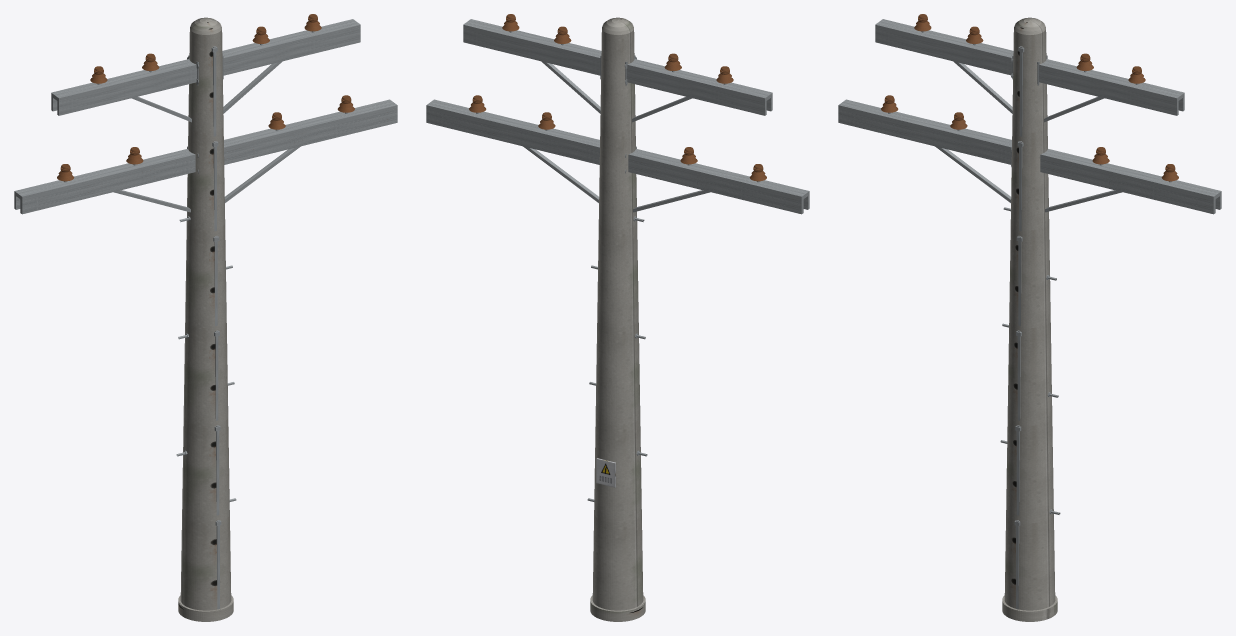
The model's file is utility_pole.obj.
3 views of the same model, side by side, from view 1: azimuth 30°, elevation 25°; view 2: azimuth 150°, elevation 25°; view 3: azimuth 330°, elevation 25° (orthographic).
Parts seen in each view (by area): view 1: shaft, arm_lower, arm_upper, earth; view 2: shaft, arm_lower, arm_upper; view 3: shaft, arm_lower, arm_upper, earth.
Boxes of the visible parts, left/top/right/bottom form: shaft: left=178, top=17, right=233, bottom=621; arm_lower: left=14, top=99, right=397, bottom=214; arm_upper: left=51, top=19, right=360, bottom=122; earth: left=211, top=46, right=221, bottom=609; shaft: left=590, top=17, right=645, bottom=621; arm_lower: left=426, top=99, right=809, bottom=214; arm_upper: left=463, top=19, right=772, bottom=122; shaft: left=1002, top=17, right=1057, bottom=621; arm_lower: left=838, top=99, right=1221, bottom=214; arm_upper: left=875, top=19, right=1184, bottom=122; earth: left=1014, top=46, right=1024, bottom=609.
Bounding box in the file's own units: 4.17 × 6.27 × 0.534.
